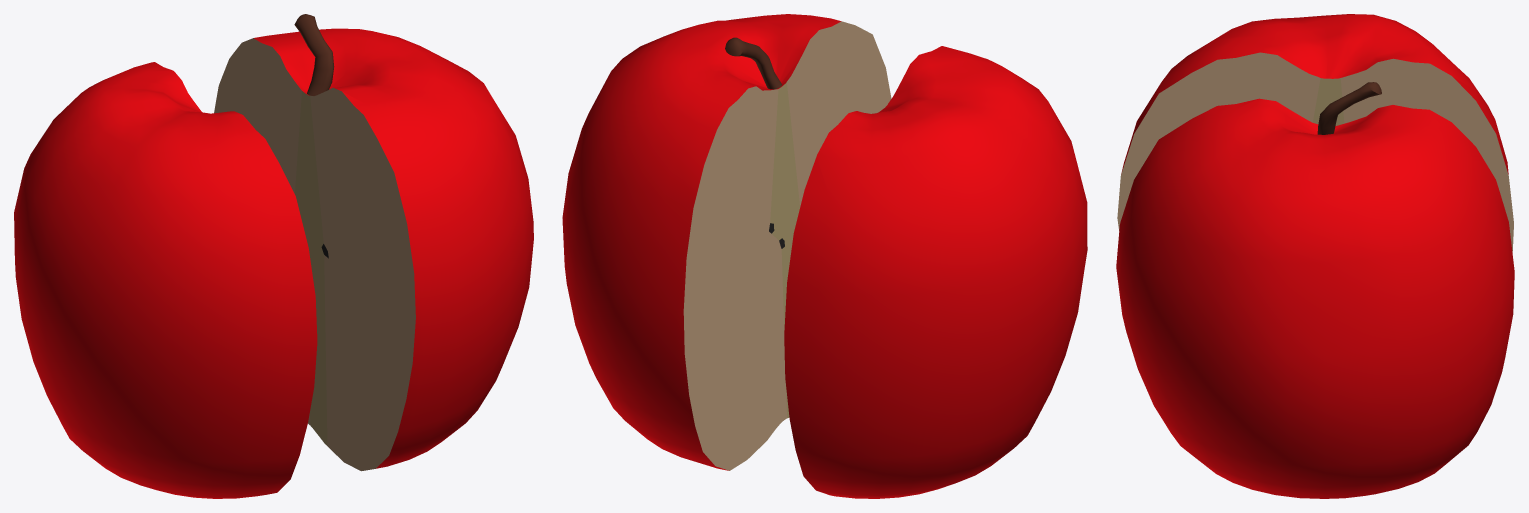
The model's file is jablko_slice.fbx.
3 renders of one model, left to right at view 1: azimuth 30°, elevation 25°; view 2: azimuth 150°, elevation 25°; view 3: azimuth 270°, elevation 25°, orthographic. The views are drawn at different scales.
Parts seen in each view (by area): view 1: apple_half1, apple_half2; view 2: apple_half1, apple_half2; view 3: apple_half2, apple_half1.
Boxes of the visible parts, x1,y1,x2,y2 form: apple_half1: (14,62,317,498); apple_half2: (214,14,533,471); apple_half1: (784,46,1087,498); apple_half2: (562,14,891,470); apple_half2: (1116,82,1514,498); apple_half1: (1117,14,1513,252).
Bounding box in the file's own units: 19.22 × 15.84 × 14.98.
